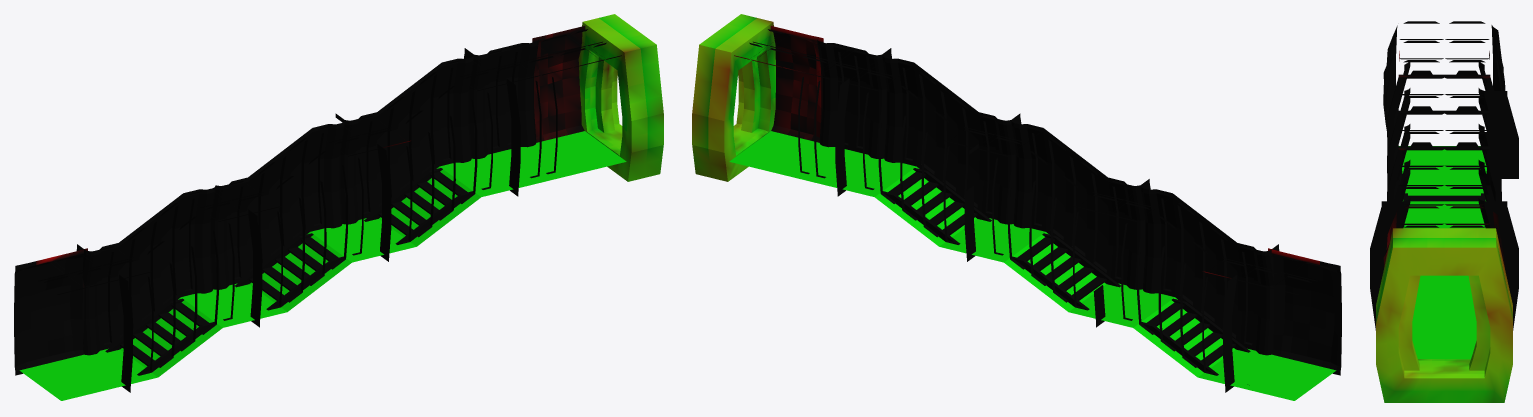
Rendered from corridor_b.glb.
3 renders of one model, left to right at view 1: azimuth 30°, elevation 25°; view 2: azimuth 150°, elevation 25°; view 3: azimuth 270°, elevation 25°, orthographic. The views are drawn at different scales.
Parts seen in each view (by area): view 1: Corridor_B_Wall_Panels, Corridor_B_Floor, Corridor_B_Stone_Wall, Corridor_B_Doorframes, Corridor_B_Stairs, Corridor_B_Ceiling; view 2: Corridor_B_Wall_Panels, Corridor_B_Floor, Corridor_B_Stone_Wall, Corridor_B_Doorframes, Corridor_B_Stairs, Corridor_B_Ceiling; view 3: Corridor_B_Doorframes, Corridor_B_Floor, Corridor_B_Wall_Panels, Corridor_B_Ceiling, Corridor_B_Stone_Wall, Corridor_B_Stairs.
Boxes of the visible parts, x1,y1,x2,y2 form: Corridor_B_Wall_Panels: (76, 39, 557, 392); Corridor_B_Floor: (19, 131, 626, 400); Corridor_B_Stone_Wall: (14, 26, 585, 375); Corridor_B_Doorframes: (578, 14, 663, 181); Corridor_B_Stairs: (105, 168, 472, 375); Corridor_B_Ceiling: (25, 29, 621, 294); Corridor_B_Wall_Panels: (798, 39, 1279, 392); Corridor_B_Floor: (729, 131, 1336, 400); Corridor_B_Stone_Wall: (770, 26, 1341, 385); Corridor_B_Doorframes: (692, 14, 775, 181); Corridor_B_Stairs: (883, 168, 1250, 375); Corridor_B_Ceiling: (734, 29, 1330, 294); Corridor_B_Doorframes: (1376, 228, 1512, 402); Corridor_B_Floor: (1399, 146, 1486, 358); Corridor_B_Wall_Panels: (1370, 62, 1518, 330); Corridor_B_Ceiling: (1398, 21, 1490, 227); Corridor_B_Stone_Wall: (1383, 25, 1505, 267); Corridor_B_Stairs: (1403, 193, 1485, 201).
Size of what is drawn, in the model's own units: 18.62 by 6.3 by 3.25.
